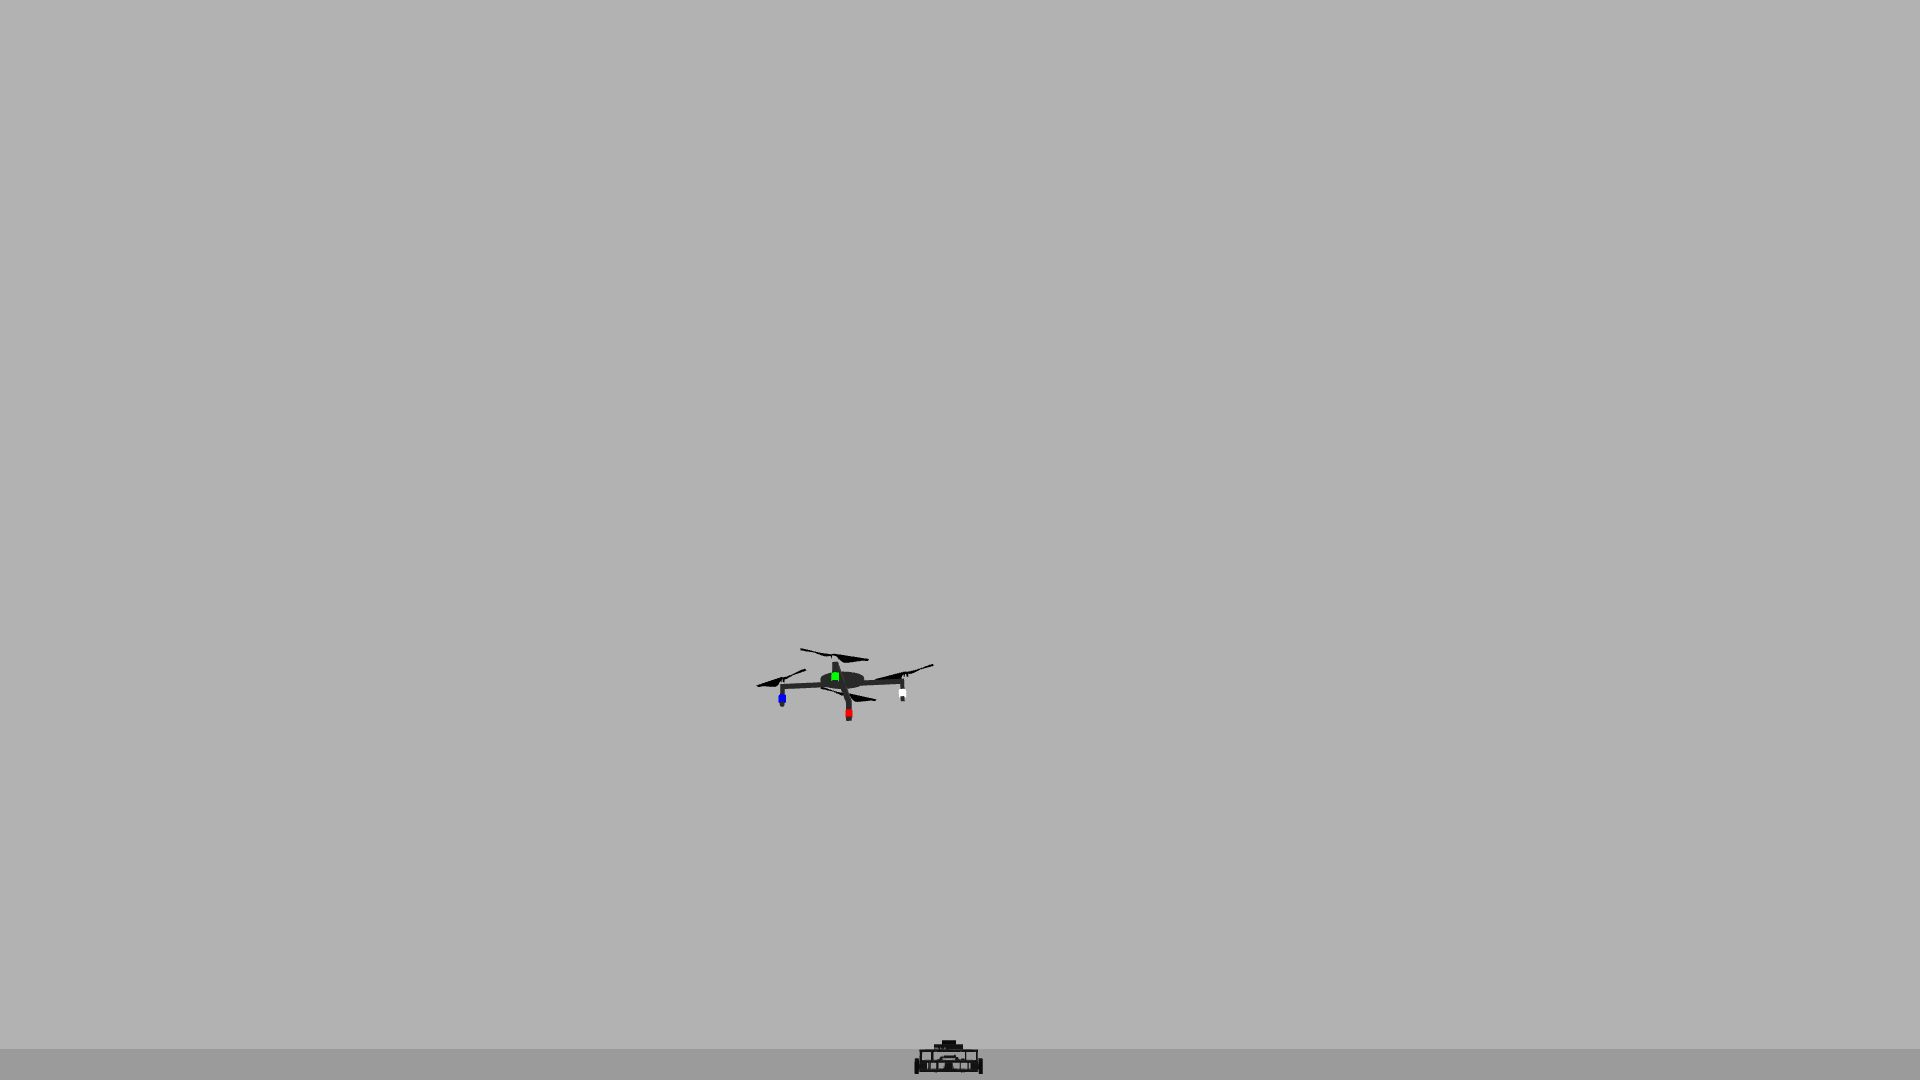drone: (750, 618, 940, 737)
